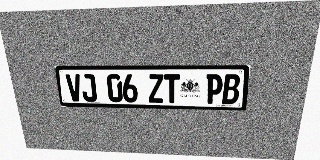0: (106, 74, 123, 102)
6: (122, 74, 138, 102)
B: (222, 74, 241, 104)
J: (80, 74, 97, 102)
P: (205, 74, 223, 104)
T: (164, 74, 180, 103)
V: (65, 74, 83, 102)
Z: (148, 74, 164, 103)
